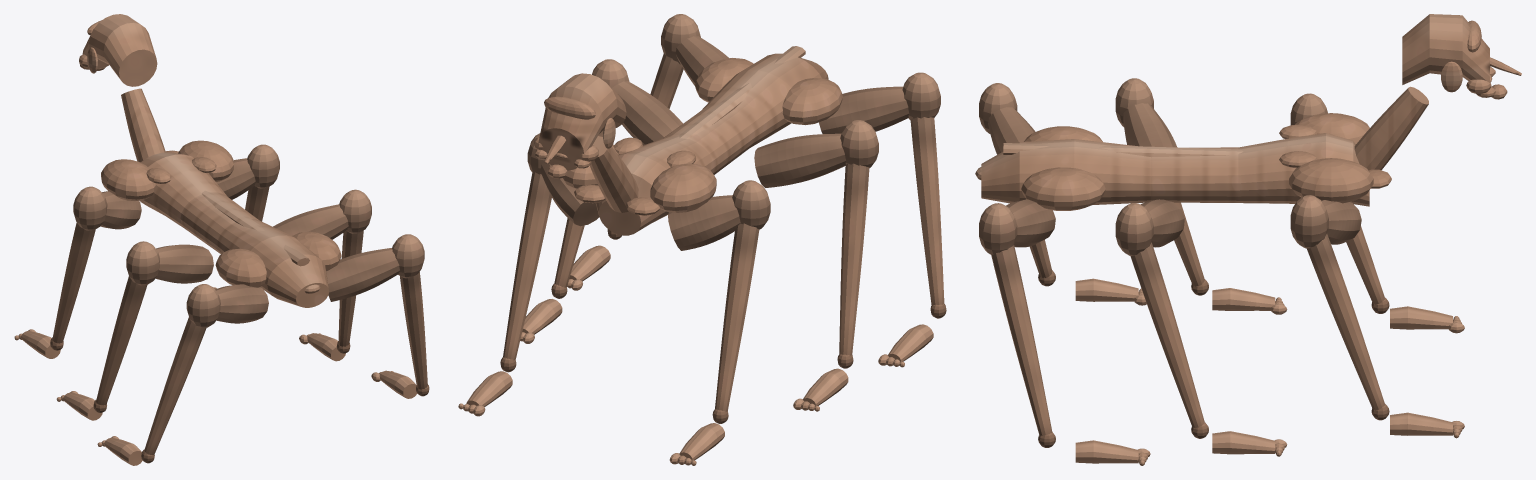
3 renders of one model, left to right at view 1: azimuth 30°, elevation 25°; view 2: azimuth 150°, elevation 25°; view 3: azimuth 270°, elevation 25°, orthographic. The views are drawn at different scales.
Bounding box in the file's own units: 1.51 × 1.47 × 2.
Materials: 1 (1 with a texture image).
